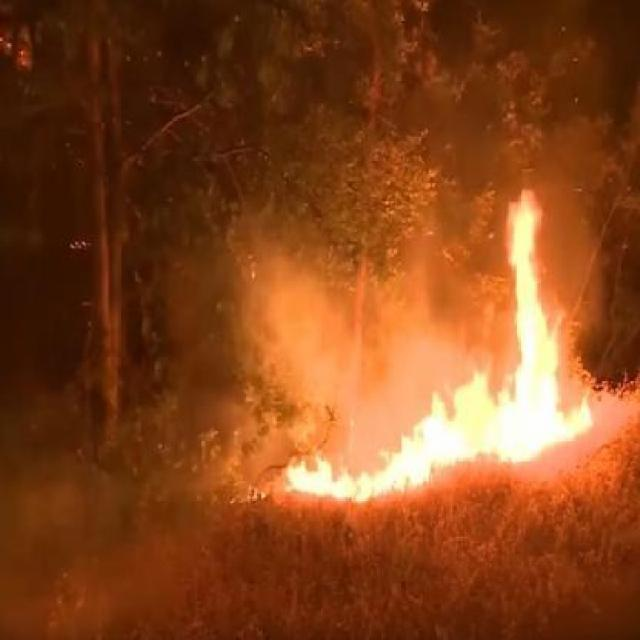Fire: (501, 186, 592, 459), (422, 373, 500, 458), (281, 456, 388, 501), (386, 428, 432, 486)
